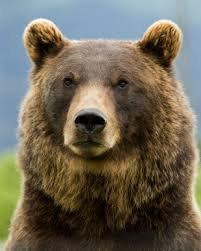bear: (4, 19, 201, 251)
